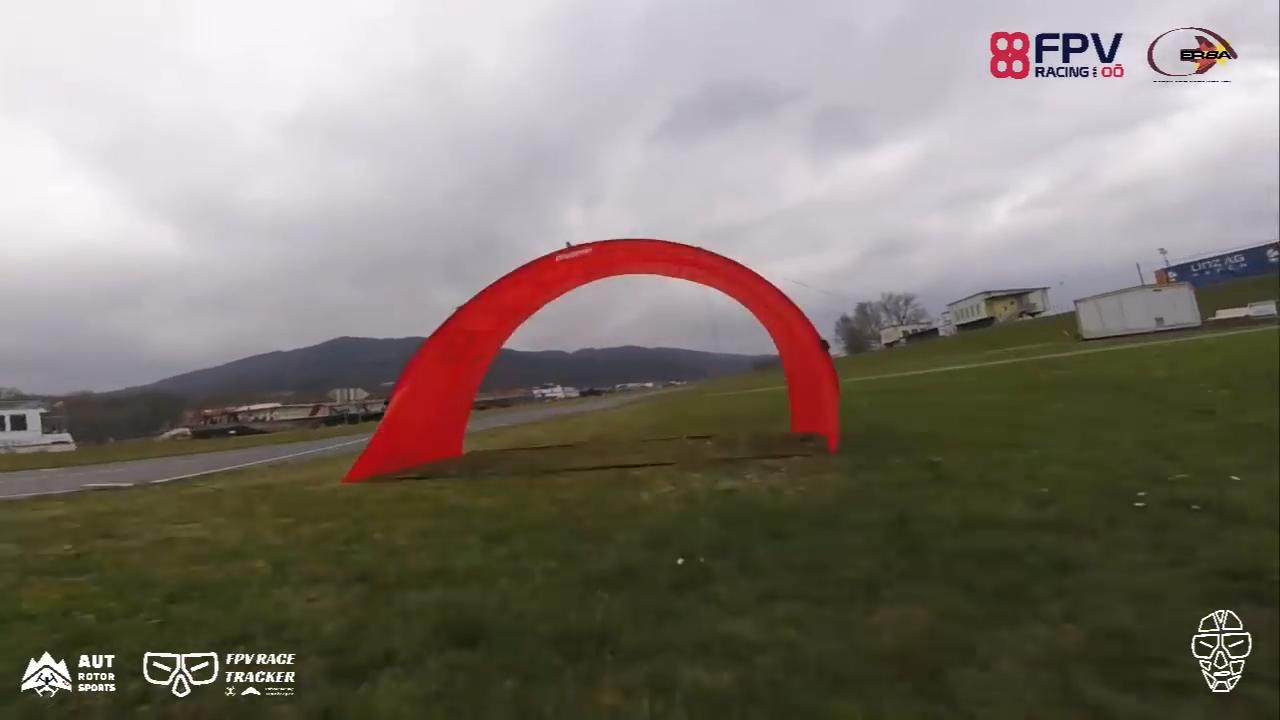gate: (342, 232, 853, 485)
